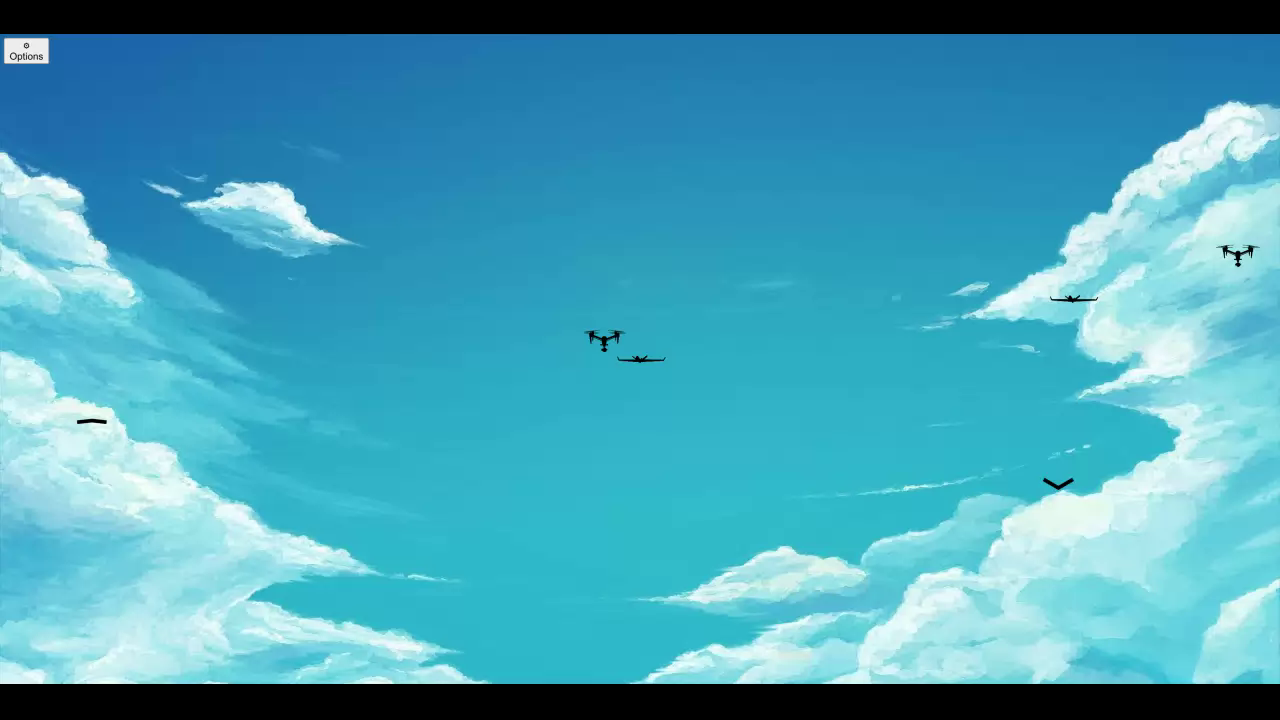Bird: (60, 406, 123, 440), (1033, 474, 1080, 512)
Drone: (609, 339, 672, 381), (1042, 278, 1102, 322)
Quadcopter: (577, 316, 641, 358), (1209, 236, 1257, 270)
